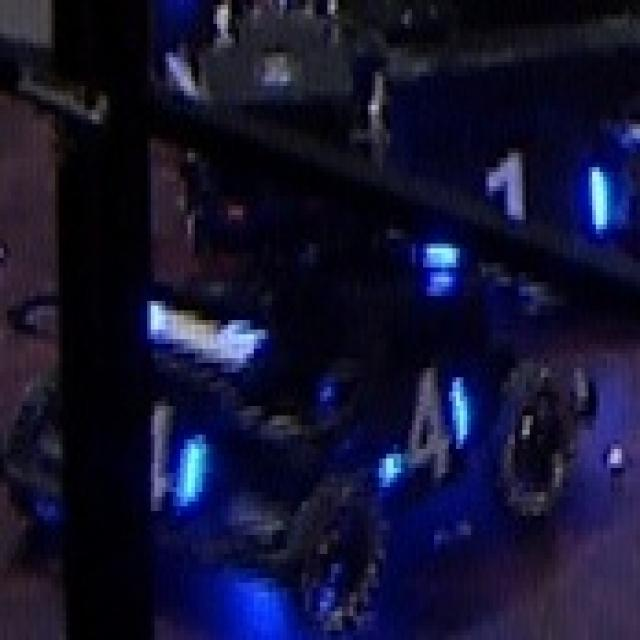B4: (375, 363, 471, 487)
